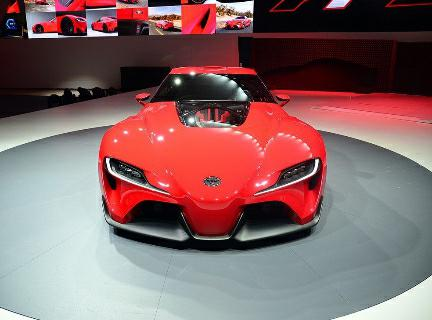丰田-FT-1: (91, 56, 332, 254)
